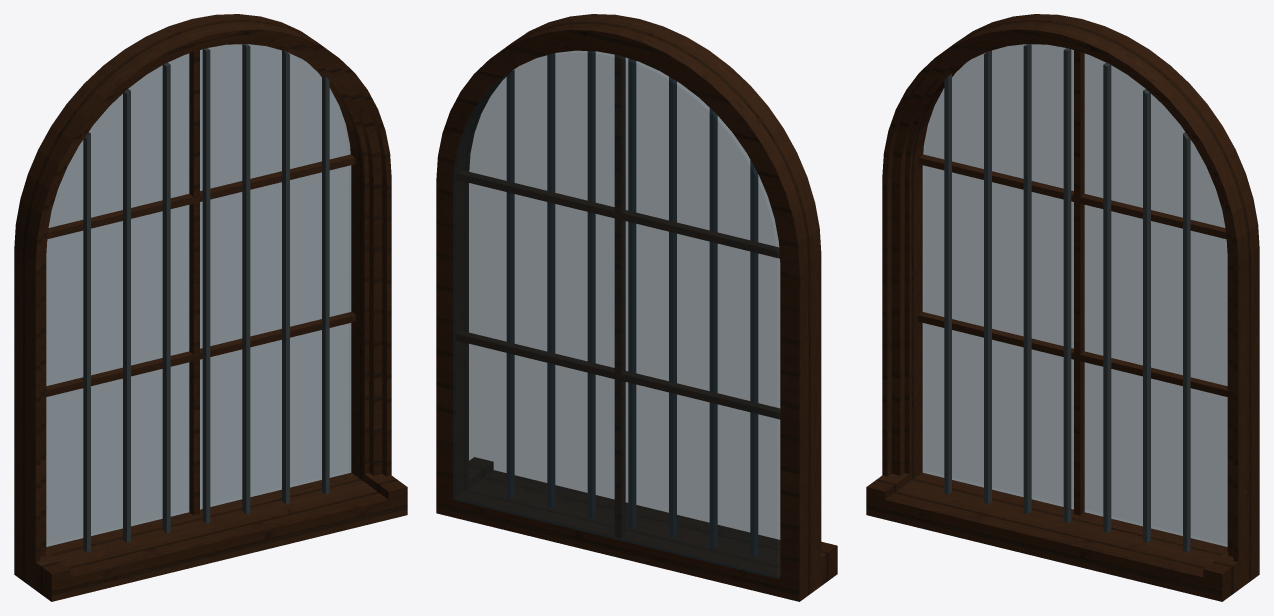
Rendered from madera_arch_con_reja.glb.
3 views of the same model, side by side, from view 1: azimuth 30°, elevation 25°; view 2: azimuth 150°, elevation 25°; view 3: azimuth 330°, elevation 25° (orthographic). The views are drawn at different scales.
Parts seen in each view (by area): view 1: window_glass#0001, window_grille#0001, window_reveal#0001, window_sill#0001, window_mullion#0001, window_profile#0020, window_profile#0009, window_profile#0010, window_profile#0001, window_profile#0017, window_profile#0018, window_profile#0019 (+5 smaller); view 2: window_glass#0001, window_reveal#0001, window_grille#0001, window_mullion#0001, window_profile#0020, window_sill#0001, window_profile#0001; view 3: window_glass#0001, window_grille#0001, window_sill#0001, window_reveal#0001, window_mullion#0001, window_profile#0020, window_profile#0009, window_profile#0010, window_profile#0001, window_profile#0017, window_profile#0018, window_profile#0019 (+5 smaller).
Part boxes in pixels (x1,y1,x2,y2): window_glass#0001: (46,44,351,546); window_grille#0001: (83,44,329,552); window_reveal#0001: (14,14,363,582); window_sill#0001: (32,471,407,601); window_mullion#0001: (46,50,355,515); window_profile#0020: (24,22,391,589); window_profile#0009: (43,39,375,556); window_profile#0010: (41,37,377,556); window_profile#0001: (45,42,365,557); window_profile#0017: (39,33,387,561); window_profile#0018: (38,32,388,561); window_profile#0019: (37,31,390,561); window_glass#0001: (453,50,780,578); window_reveal#0001: (436,21,811,601); window_grille#0001: (507,51,757,557); window_mullion#0001: (455,54,780,537); window_profile#0020: (505,14,821,590); window_sill#0001: (464,457,837,595); window_profile#0001: (467,71,779,564); window_glass#0001: (922,44,1227,546); window_grille#0001: (944,44,1190,552); window_sill#0001: (866,471,1250,601); window_reveal#0001: (910,14,1259,581); window_mullion#0001: (918,50,1227,515); window_profile#0020: (882,21,1249,589); window_profile#0009: (898,39,1230,556); window_profile#0010: (896,37,1232,556); window_profile#0001: (908,42,1228,551); window_profile#0017: (886,33,1234,561); window_profile#0018: (885,32,1235,561); window_profile#0019: (883,31,1236,561).
Size of the model in its own units: 1.6 by 2.2 by 0.31.
3 materials, 1 textured.
